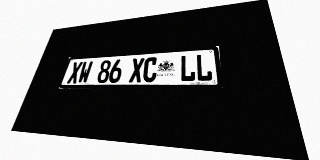6: (108, 59, 124, 83)
8: (96, 60, 112, 83)
C: (142, 57, 158, 82)
L: (196, 53, 213, 81), (180, 54, 195, 82)
W: (77, 61, 93, 83)
X: (129, 58, 145, 82), (67, 62, 83, 83)
